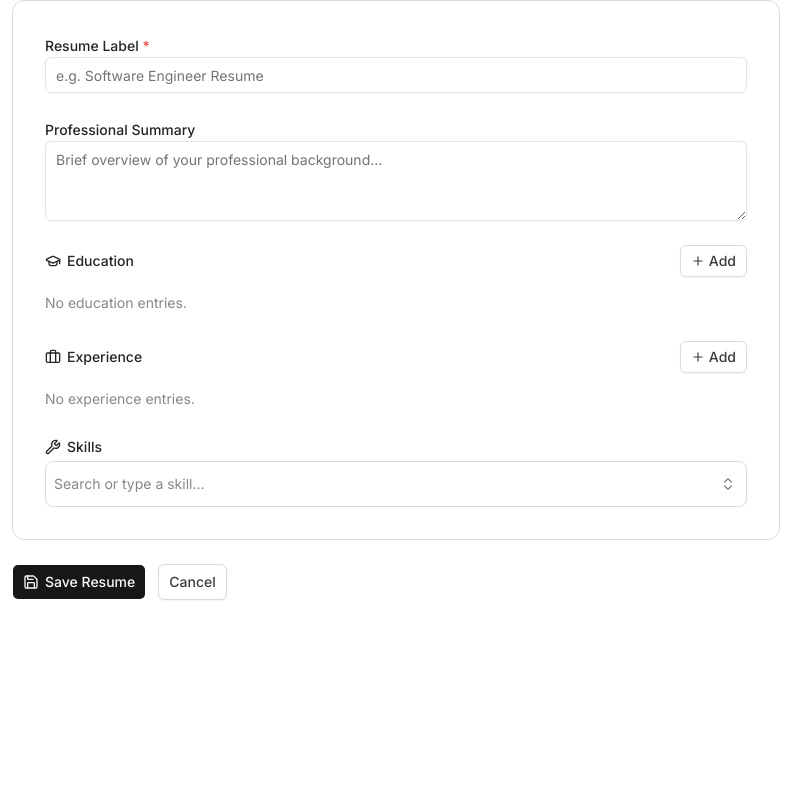
Test: ResumeBuilderForm › adds an experience entry when Add is clicked
The width and height of the screenshot is (797, 791).
Click the 2nd button "Add" at (713, 357), box [680,341,747,373]
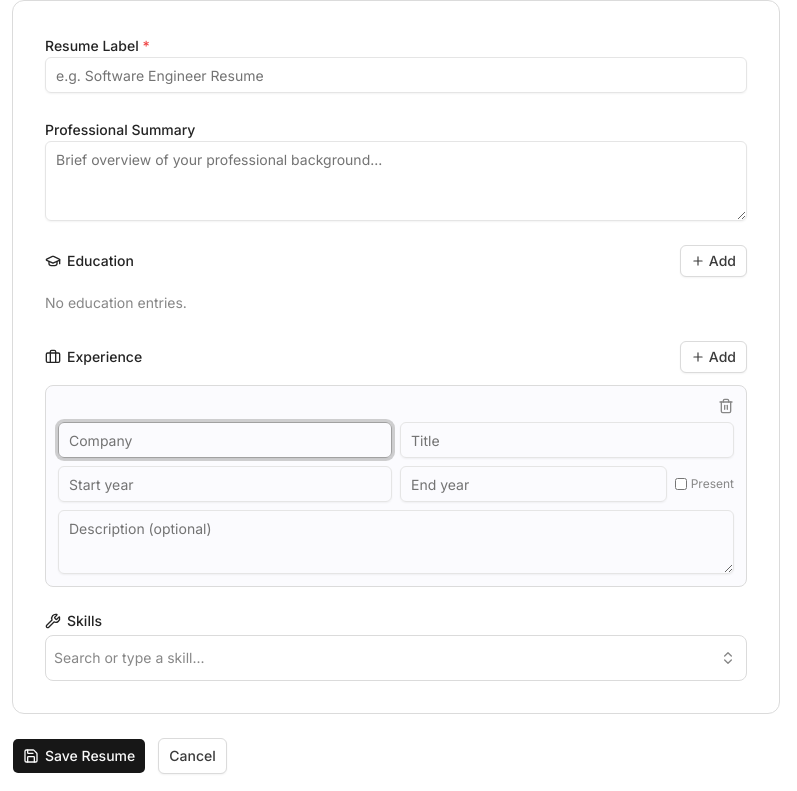
Check: the field with placeholder "Company" is shown, box [58,422,392,458]
